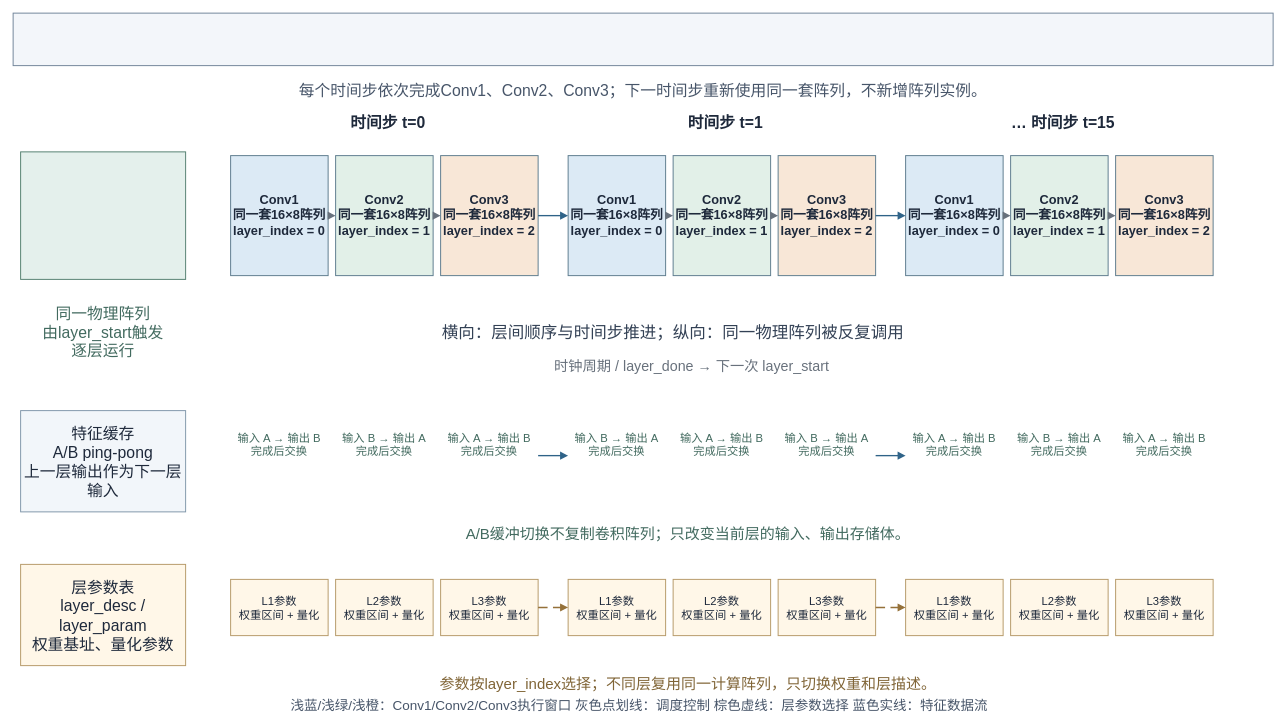
Image size: 1287x728. Some labels were removed from this diagram. The centre of each missing label's shape, as x and y in pixels:
"16×8物理阵列的分时复用时间线" belongs at point (642, 39).
"固定硬件实例 16×8卷积阵列 128个PE instance = 1" belongs at point (103, 215).
